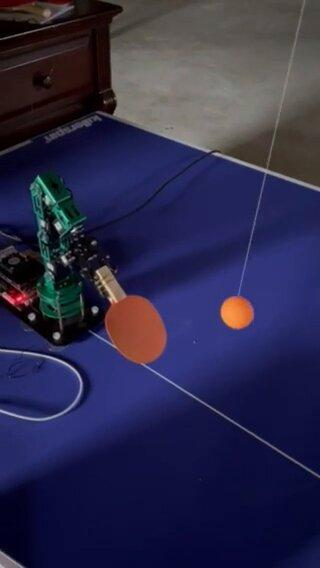oball: (220, 295, 257, 329)
